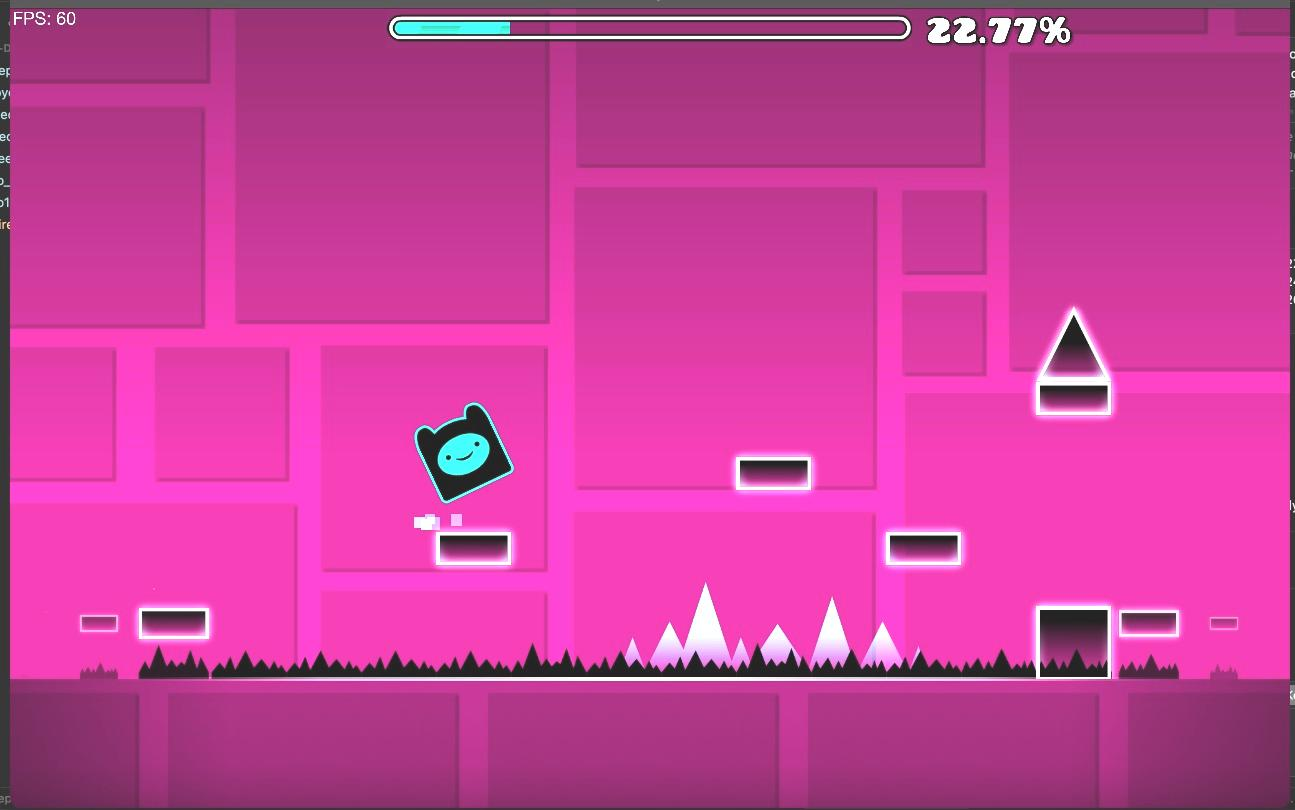platform: (416, 514, 512, 567), (884, 530, 963, 567), (736, 456, 811, 491), (138, 608, 209, 639), (1113, 609, 1179, 637), (82, 614, 119, 632), (1210, 617, 1237, 629)
player: (418, 403, 512, 501)
spike: (139, 586, 1036, 679), (1036, 308, 1111, 414)
